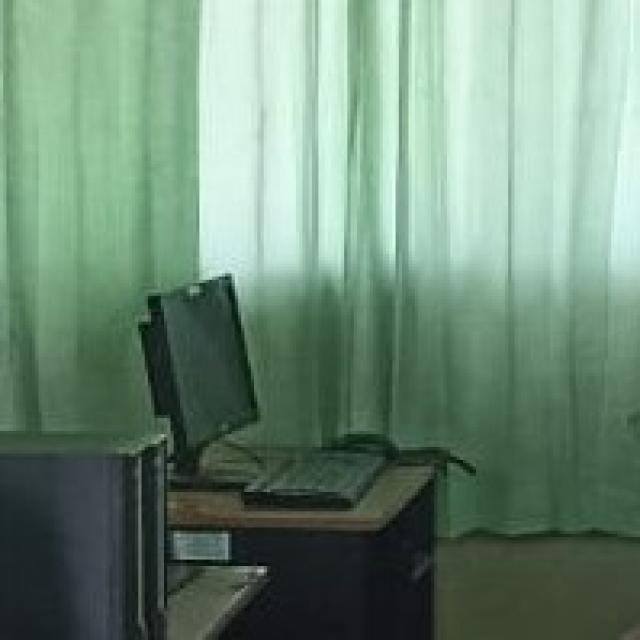offscreen: (155, 269, 263, 480)
